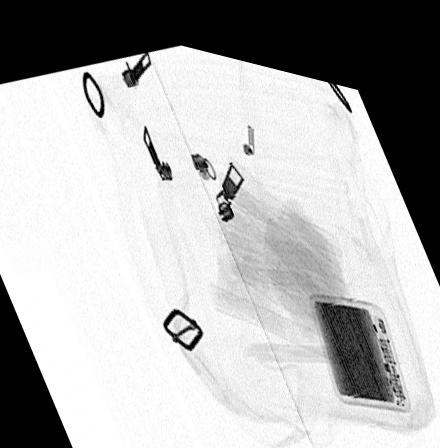Powerbank: (308, 275, 413, 393)
